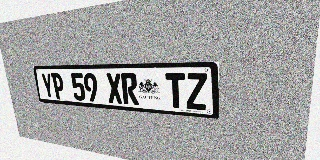5: (70, 73, 86, 101)
9: (83, 73, 99, 102)
P: (51, 73, 66, 99)
R: (121, 73, 139, 105)
T: (165, 73, 186, 109)
X: (106, 73, 123, 104)
Y: (41, 73, 55, 99)
Z: (186, 73, 207, 110)
